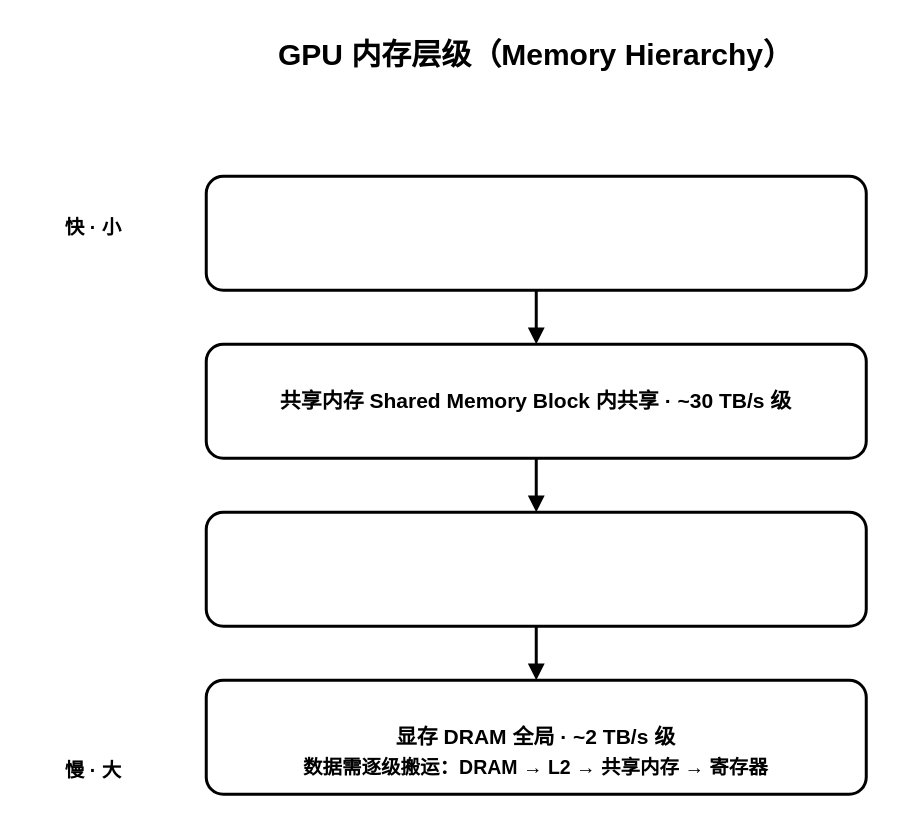
Image size: 921x821. Some labels were removed from this diagram. The shapes that lost their labels are listed below. From the top down, each one's centre as x and y in pixels, then its label:
the point at 535,232: 寄存器 Registers 每线程私有 · 最快 · 容量最小
the point at 535,568: L2 缓存 L2 Cache GPU 内共享 · ~12 TB/s 级
